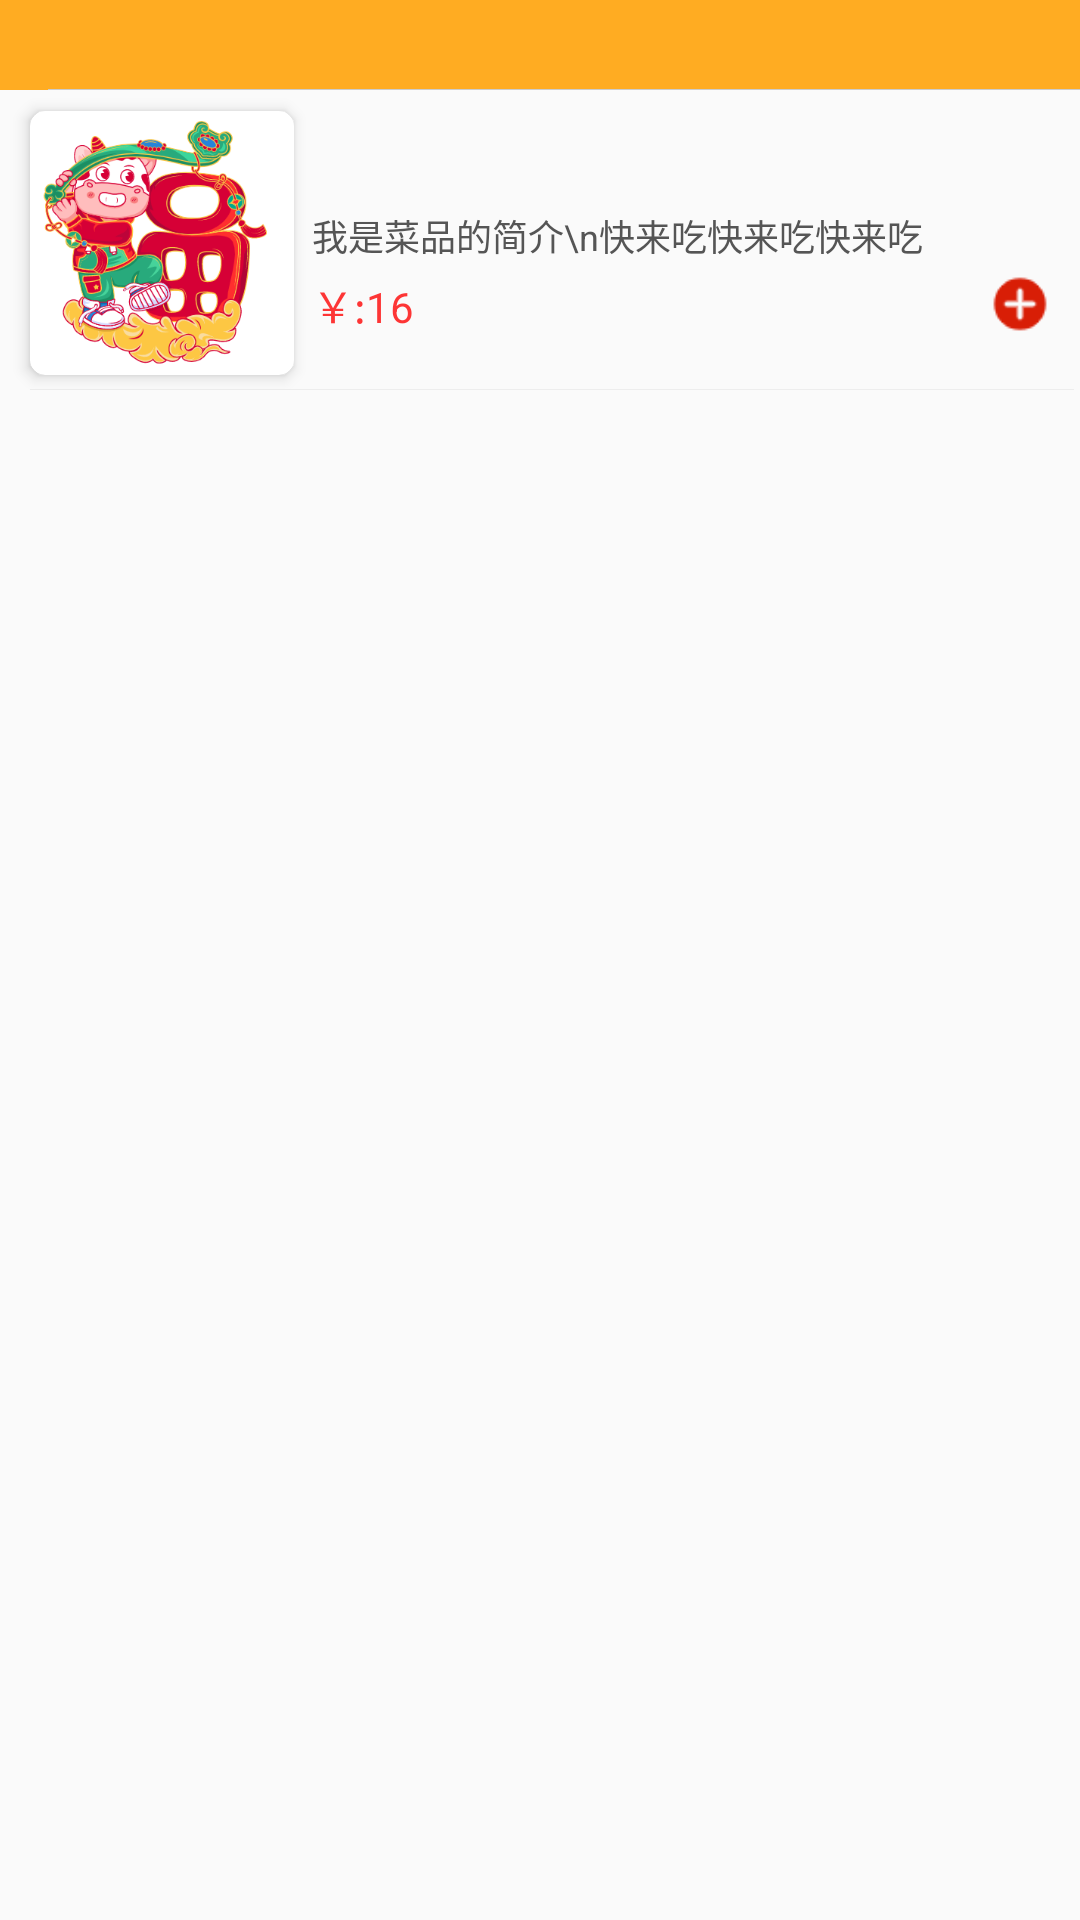

Screen size 1080 x 1920. Icon name, then its box in pixels as rect(x1, y1, x2, y2):
add: rect(993, 277, 1047, 331)
goods bc: rect(43, 121, 267, 364)
